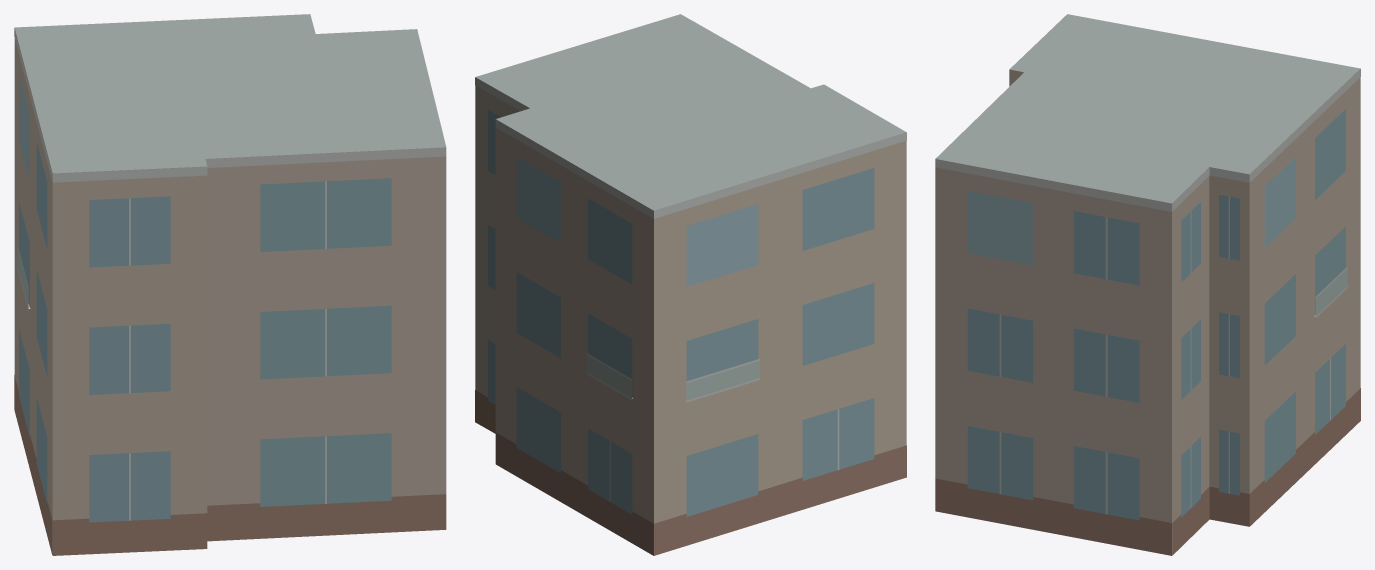
File: survey-upis-32806630.glb
3 renders of one model, left to right at view 1: azimuth 30°, elevation 25°; view 2: azimuth 150°, elevation 25°; view 3: azimuth 270°, elevation 25°, orthographic. The views are drawn at different scales.
Parts seen in each view (by area): view 1: survey-upis-32806630.tmp; view 2: survey-upis-32806630.tmp; view 3: survey-upis-32806630.tmp.
Boxes of the visible parts, x1,y1,x2,y2 form: survey-upis-32806630.tmp: (14,14,446,555); survey-upis-32806630.tmp: (475,14,906,555); survey-upis-32806630.tmp: (935,14,1360,555).
Bounding box in the file's own units: 11.77 × 10.2 × 11.17.
